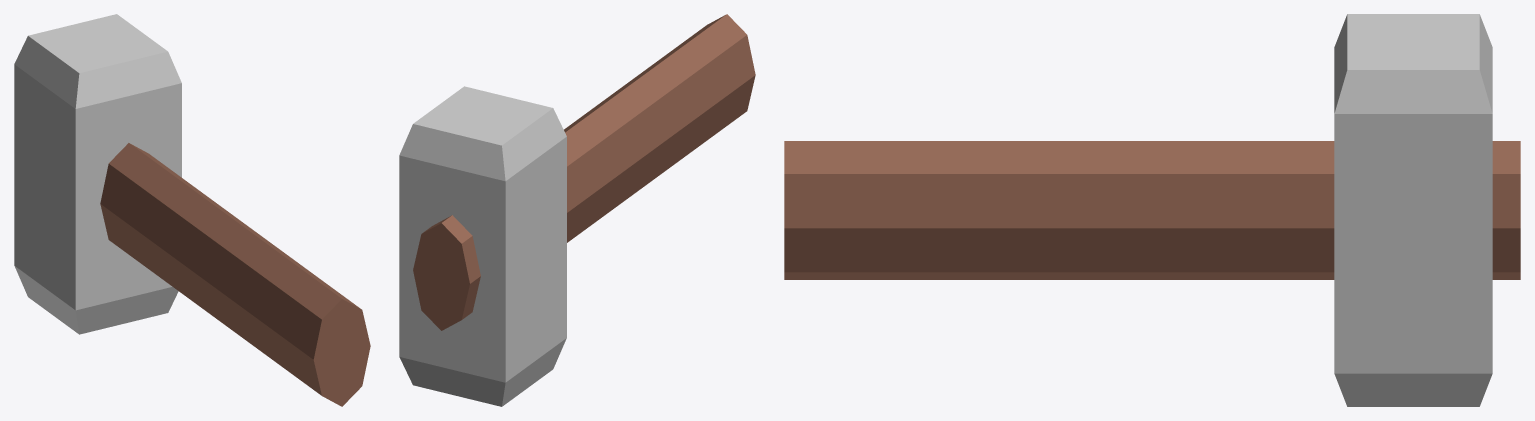
Rendered from hammer.fbx.
3 renders of one model, left to right at view 1: azimuth 30°, elevation 25°; view 2: azimuth 150°, elevation 25°; view 3: azimuth 270°, elevation 25°, orthographic. The views are drawn at different scales.
Parts seen in each view (by area): view 1: Cube; view 2: Cube; view 3: Cube.
Boxes of the visible parts, x1,y1,x2,y2 form: Cube: (14,14,370,406); Cube: (399,14,755,406); Cube: (784,14,1520,406).
Size of the model in its own units: 19.81 by 46.57 by 92.23.
